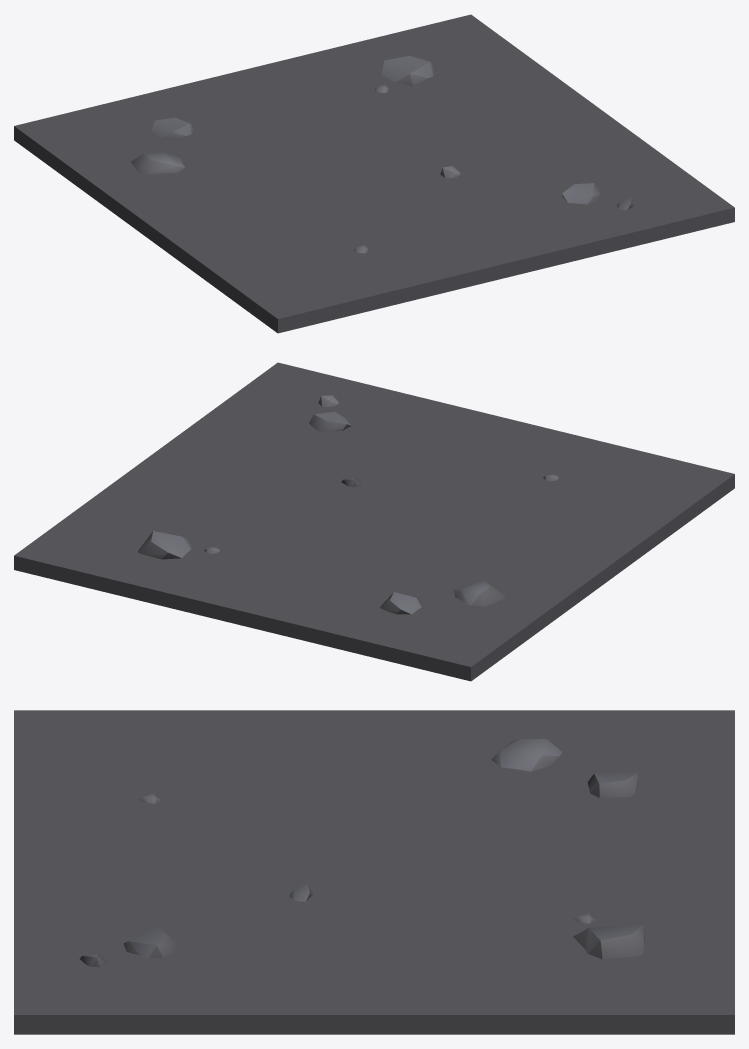
Rendered from floor_dirt_large.glb.
3 renders of one model, top to bottom at view 1: azimuth 30°, elevation 25°; view 2: azimuth 150°, elevation 25°; view 3: azimuth 270°, elevation 25°, orthographic. The views are drawn at different scales.
Parts seen in each view (by area): view 1: floor_dirt_large; view 2: floor_dirt_large; view 3: floor_dirt_large.
Part boxes in pixels (left/top/right/bottom): floor_dirt_large: left=14, top=14, right=734, bottom=333; floor_dirt_large: left=14, top=362, right=734, bottom=681; floor_dirt_large: left=14, top=710, right=734, bottom=1034.
Size of the model in its own units: 4 by 0.2086 by 4.
1 material, 1 textured.
